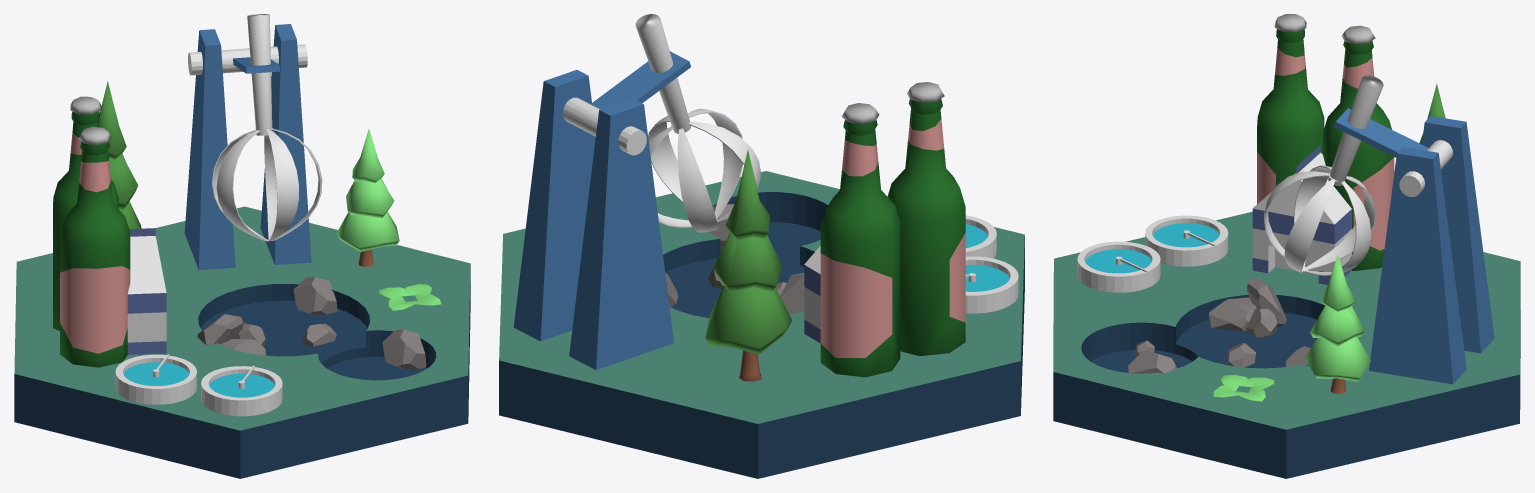
The model's file is Macro - Mineral lvl 3 WM2 rev.fbx.
3 views of the same model, side by side, from view 1: azimuth 30°, elevation 25°; view 2: azimuth 150°, elevation 25°; view 3: azimuth 270°, elevation 25° (orthographic). The views are drawn at different scales.
Visible parts, largest first — view 1: Cylinder.001, drink_003.001, Cube.007, Cube.008, Circle.002, milkbox2.001, Tree_Spruce_tiny_01.001, drink_003, Cylinder.083, Cylinder.116, Cylinder.005, Tree_Spruce_tiny_01.002 (+9 smaller); view 2: Cylinder.001, Cube.007, drink_003, drink_003.001, Cube.008, Tree_Spruce_tiny_01.002, Circle.002, Cylinder.005, Cube.005, Cylinder.116, Cylinder.006, milkbox2.001 (+3 smaller); view 3: Cylinder.001, Cube.008, drink_003.001, Cube.007, drink_003, Circle.002, milkbox2.001, Tree_Spruce_tiny_01.001, Rock Type2 02 mesh.001, Cylinder.083, Cylinder.116, Cylinder.005 (+7 smaller).
Boxes of the visible parts, x1,y1,x2,y2 form: Cylinder.001: (14,206,470,478); drink_003.001: (60,126,130,367); Cube.007: (184,29,235,270); Cube.008: (260,24,311,264); Circle.002: (212,128,322,241); milkbox2.001: (127,228,166,354); Tree_Spruce_tiny_01.001: (336,129,399,266); drink_003: (53,96,118,330); Cylinder.083: (201,366,282,416); Cylinder.116: (115,354,196,404); Cylinder.005: (247,14,272,135); Tree_Spruce_tiny_01.002: (98,81,141,228); Cylinder.001: (499,171,1024,478); Cube.007: (569,98,673,369); drink_003: (820,103,900,377); drink_003.001: (887,82,965,356); Cube.008: (513,70,595,341); Tree_Spruce_tiny_01.002: (705,150,791,381); Circle.002: (648,108,761,232); Cylinder.005: (635,14,691,133); Cube.005: (590,51,690,109); Cylinder.116: (965,256,1018,313); Cylinder.006: (563,97,646,155); milkbox2.001: (804,246,820,343); Cylinder.001: (1053,211,1520,478); Cube.008: (1369,147,1466,384); drink_003.001: (1257,14,1324,203); Cube.007: (1422,116,1494,353); drink_003: (1323,25,1394,270); Circle.002: (1263,165,1376,276); milkbox2.001: (1252,145,1351,284); Tree_Spruce_tiny_01.001: (1304,254,1370,393); Rock Type2 02 mesh.001: (1208,277,1286,337); Cylinder.083: (1077,241,1160,292); Cylinder.116: (1145,215,1228,266); Cylinder.005: (1328,75,1383,186).
Bounding box in the file's own units: 197 × 128 × 172.
